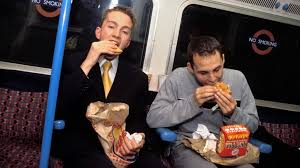eating: (175, 27, 281, 146), (83, 3, 141, 105)
